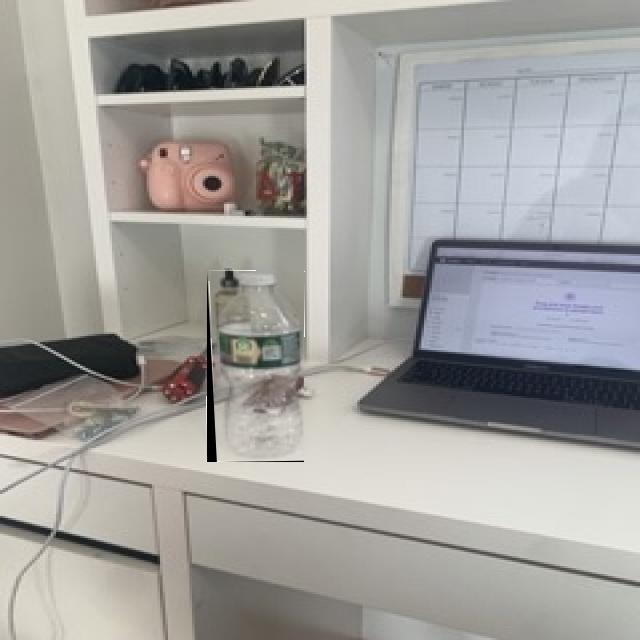water_bottle: (207, 271, 304, 462)
